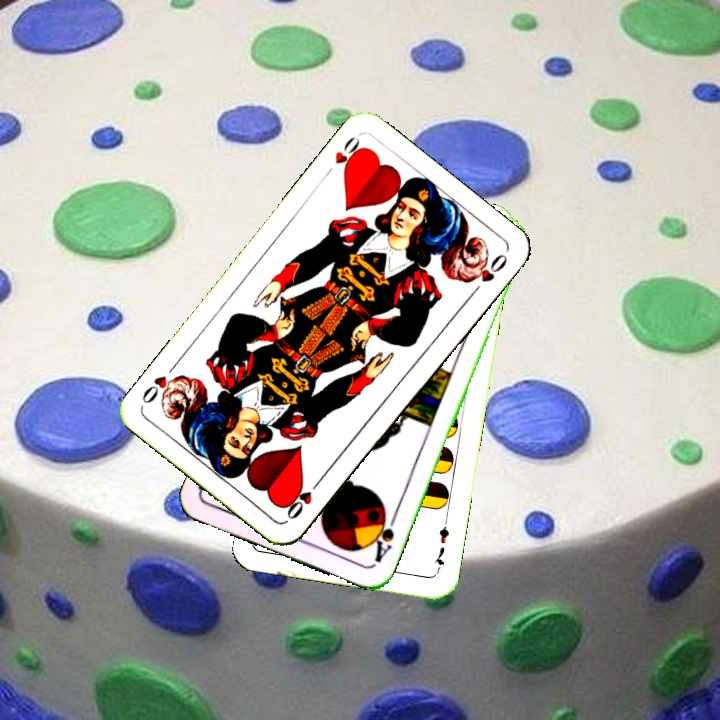E7: (429, 515, 452, 574)
HO: (319, 132, 367, 181), (282, 473, 325, 522)
SA: (367, 506, 400, 566)
